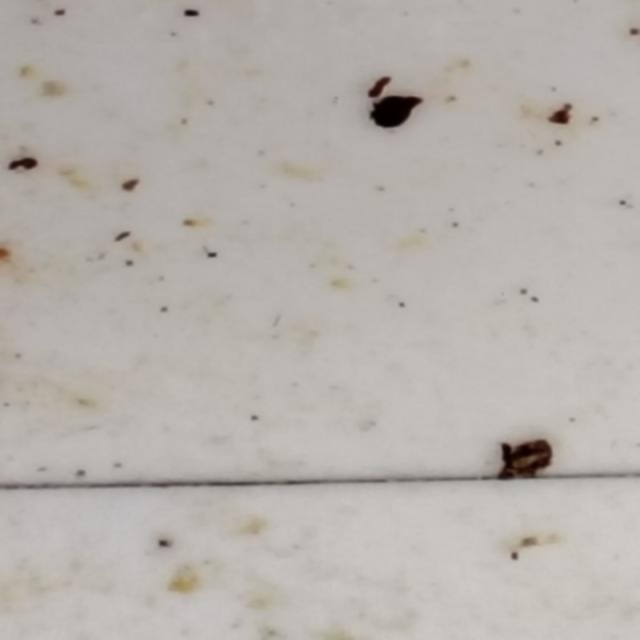varroa: (373, 96, 413, 130)
